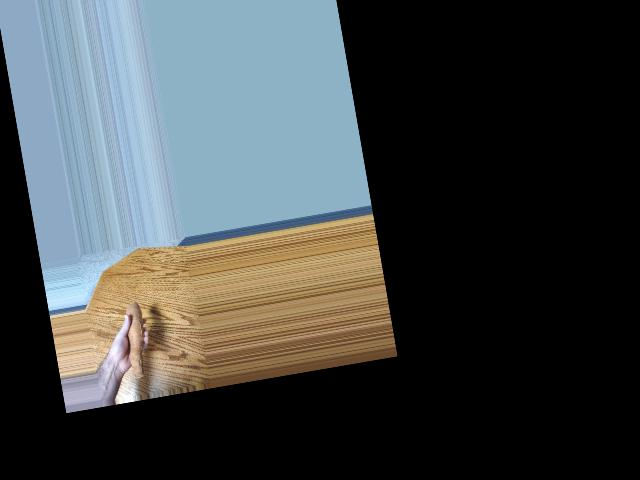sweet_potato: (115, 297, 152, 381)
